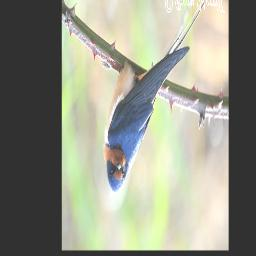Swallow: (103, 0, 206, 194)
